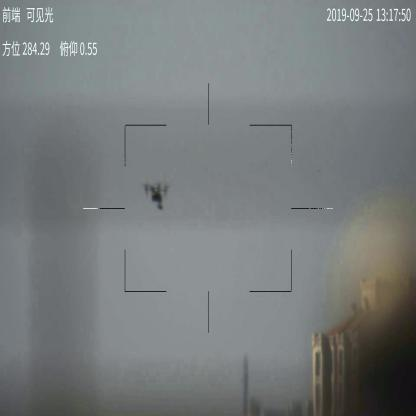uav: (142, 180, 170, 211)
